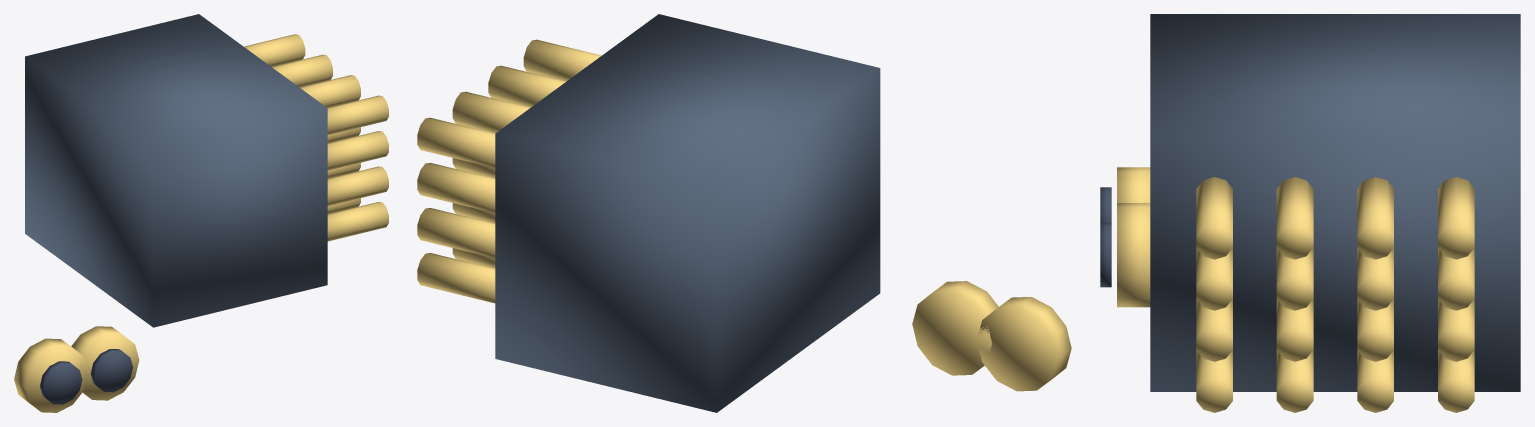
File: 60_L85_DockingElectricalUmbilicalCoupler.glb
3 views of the same model, side by side, from view 1: azimuth 30°, elevation 25°; view 2: azimuth 150°, elevation 25°; view 3: azimuth 270°, elevation 25° (orthographic). The views are drawn at different scales.
Visible parts, largest first — view 1: L85_DockingElectricalUmbilica_Part_0000, L85_DockingElectricalUmbilica_Part_0001, L85_DockingElectricalUmbilica_Part_0002, L85_DockingElectricalUmbilica_Part_0003, L85_DockingElectricalUmbilica_Part_0005, L85_DockingElectricalUmbilica_Part_0004, L85_DockingElectricalUmbilica_Part_0006; view 2: L85_DockingElectricalUmbilica_Part_0000, L85_DockingElectricalUmbilica_Part_0001, L85_DockingElectricalUmbilica_Part_0003, L85_DockingElectricalUmbilica_Part_0005, L85_DockingElectricalUmbilica_Part_0002; view 3: L85_DockingElectricalUmbilica_Part_0000, L85_DockingElectricalUmbilica_Part_0001, L85_DockingElectricalUmbilica_Part_0002, L85_DockingElectricalUmbilica_Part_0005, L85_DockingElectricalUmbilica_Part_0003, L85_DockingElectricalUmbilica_Part_0006, L85_DockingElectricalUmbilica_Part_0004.
Boxes of the visible parts, x1,y1,x2,y2 form: L85_DockingElectricalUmbilica_Part_0000: (25, 14, 327, 327); L85_DockingElectricalUmbilica_Part_0001: (244, 34, 388, 241); L85_DockingElectricalUmbilica_Part_0002: (300, 75, 388, 134); L85_DockingElectricalUmbilica_Part_0003: (14, 338, 88, 412); L85_DockingElectricalUmbilica_Part_0005: (71, 326, 139, 400); L85_DockingElectricalUmbilica_Part_0004: (40, 361, 82, 404); L85_DockingElectricalUmbilica_Part_0006: (90, 349, 132, 392); L85_DockingElectricalUmbilica_Part_0000: (495, 14, 880, 412); L85_DockingElectricalUmbilica_Part_0001: (417, 91, 530, 303); L85_DockingElectricalUmbilica_Part_0003: (978, 297, 1071, 391); L85_DockingElectricalUmbilica_Part_0005: (912, 281, 998, 375); L85_DockingElectricalUmbilica_Part_0002: (488, 39, 601, 107); L85_DockingElectricalUmbilica_Part_0000: (1150, 14, 1520, 391); L85_DockingElectricalUmbilica_Part_0001: (1196, 177, 1474, 412); L85_DockingElectricalUmbilica_Part_0002: (1196, 177, 1313, 259); L85_DockingElectricalUmbilica_Part_0005: (1117, 203, 1150, 307); L85_DockingElectricalUmbilica_Part_0003: (1117, 167, 1150, 202); L85_DockingElectricalUmbilica_Part_0006: (1100, 223, 1111, 287); L85_DockingElectricalUmbilica_Part_0004: (1100, 187, 1111, 222).
Bounding box in the file's own units: 0.8075 × 0.45 × 0.522.
